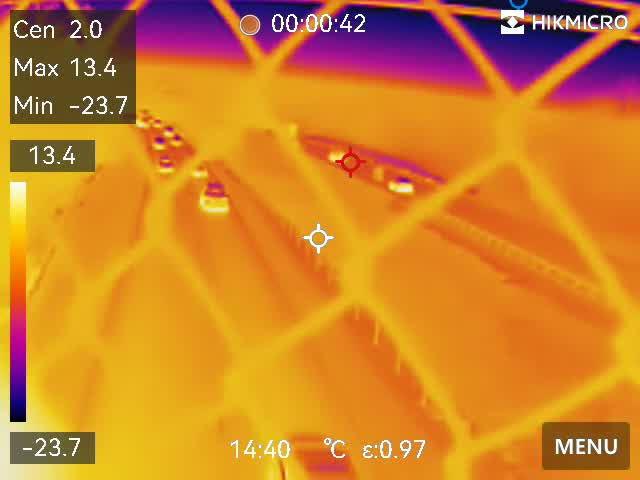vehicle: (257, 427, 361, 480), (199, 181, 230, 216), (385, 176, 419, 200), (190, 163, 208, 178), (159, 157, 174, 174), (149, 118, 166, 131), (151, 139, 166, 151), (172, 133, 184, 145), (161, 124, 172, 134)
